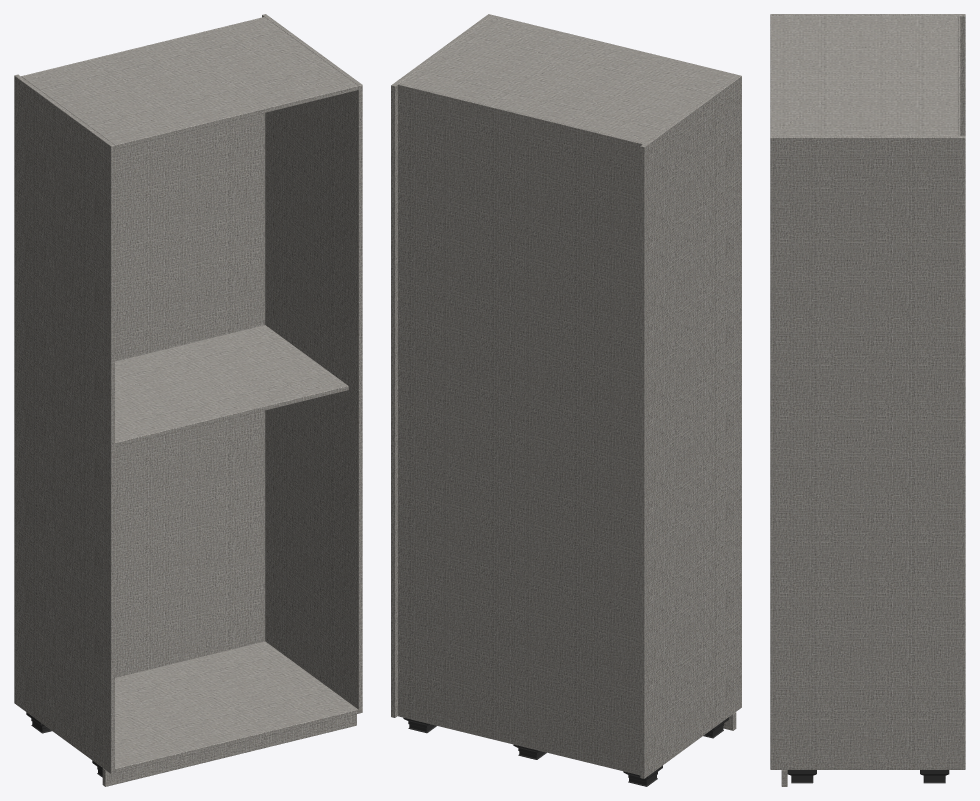
The model's file is cbib12116.gltf.
The picture shows the model from 3 angles, left to right: view 1: azimuth 30°, elevation 25°; view 2: azimuth 150°, elevation 25°; view 3: azimuth 270°, elevation 25°; orthographic projection.
Parts seen in each view (by area): view 1: CBIB12116; view 2: CBIB12116; view 3: CBIB12116.
Part boxes in pixels (box(x1,y1,x2,y2)): CBIB12116: box(14, 14, 362, 786); CBIB12116: box(391, 14, 741, 786); CBIB12116: box(770, 14, 965, 786).
Size of the model in its own units: 0.9 by 2.2 by 0.6.
Materials: 3 (2 with a texture image).
